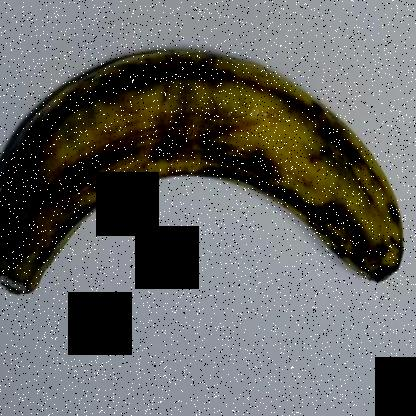overripe: (1, 33, 414, 330)
rotten: (1, 166, 98, 317)
